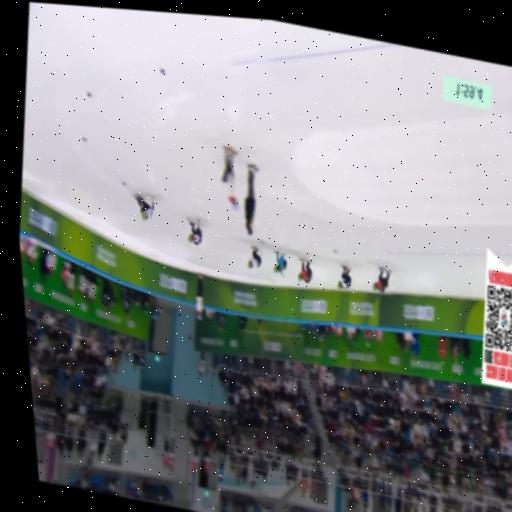Skater: (133, 194, 154, 219), (373, 268, 391, 292), (188, 217, 202, 244), (299, 258, 312, 282), (248, 246, 262, 268), (338, 265, 351, 288), (274, 251, 287, 273)
